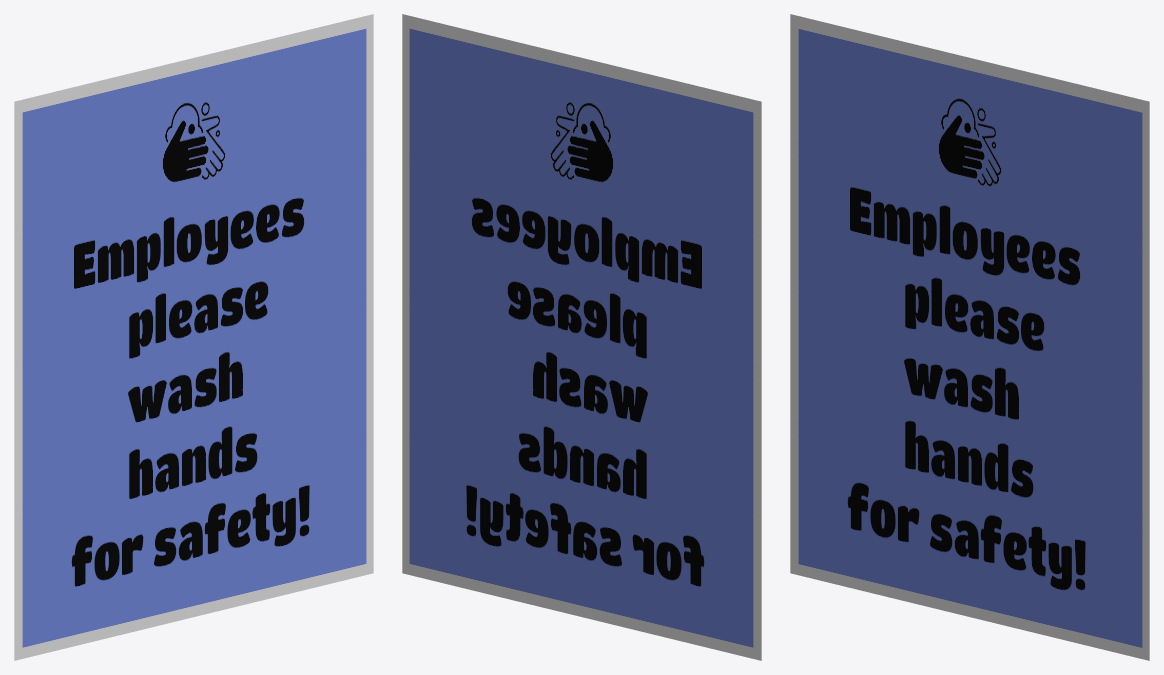
Rendered from Washhands.fbx.
The picture shows the model from 3 angles, left to right: view 1: azimuth 30°, elevation 25°; view 2: azimuth 150°, elevation 25°; view 3: azimuth 330°, elevation 25°; orthographic projection.
Visible parts, largest first — view 1: intructionsigncooking; view 2: intructionsigncooking; view 3: intructionsigncooking.
Part boxes in pixels (box(x1,y1,x2,y2)): intructionsigncooking: box(14, 14, 373, 660); intructionsigncooking: box(402, 14, 761, 660); intructionsigncooking: box(790, 14, 1149, 660).
Size of the model in its own units: 637 by 947 by 4.14e-05.
